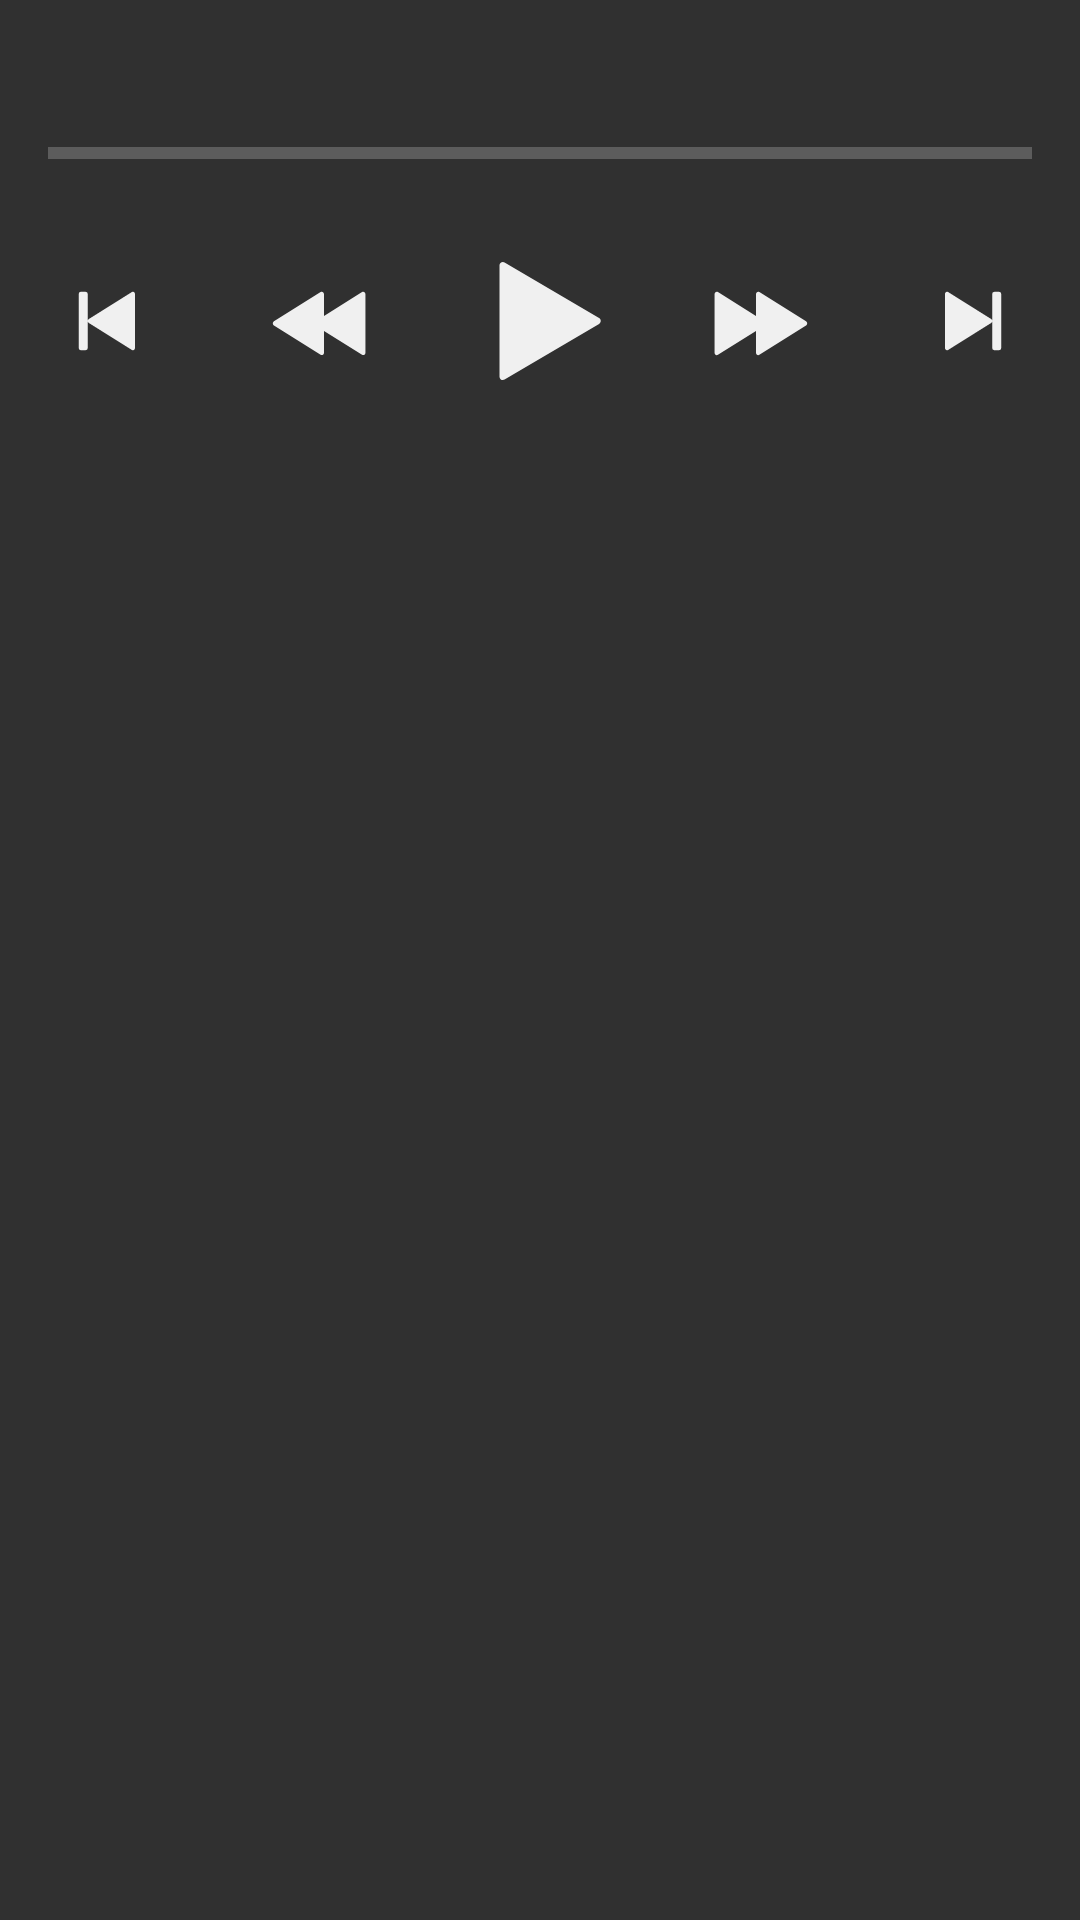

Where to tap for icons on this 1080w x 1920h app screen, as (x=x, y=y):
next: (x=973, y=321)
play: (x=550, y=321)
prev: (x=106, y=321)
rew: (x=319, y=323)
